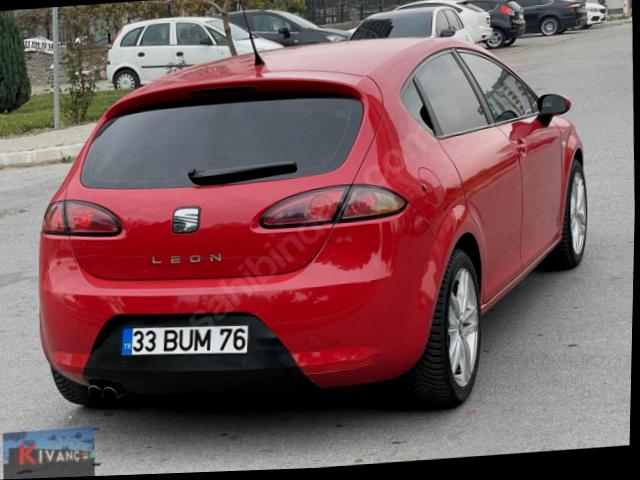plaka: (121, 324, 249, 356)
